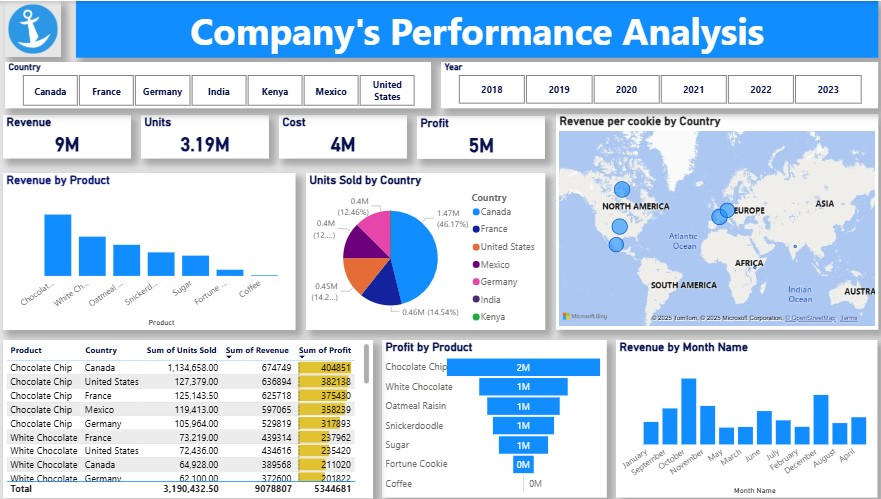

The dashboard page shown, as its layout file describes it:
{"tool":"powerbi","page":{"name":"Dashboard","canvas":[1280,720],"ordinal":0},"visuals":[{"type":"image","box":[10.1,0,80.6,80.6],"z":0},{"type":"textbox","box":[112.8,0,1159.5,82.4],"z":1000},{"type":"card","title":"Revenue","fields":{"Values":["Sum(Sheet1.Revenue)"]},"box":[6.6,164.2,185,63],"z":2000},{"type":"card","title":"Units","fields":{"Values":["Sum(Sheet1.Units Sold)"]},"box":[206.4,164.2,185,63],"z":3000},{"type":"card","title":"Cost","fields":{"Values":["Sum(Sheet1.Cost)"]},"box":[406.1,164.2,185,63],"z":4000},{"type":"card","title":"Profit","fields":{"Values":["Sum(Sheet1.Profit)"]},"box":[605.8,166.3,185.1,62.2],"z":5000},{"type":"columnChart","title":"Revenue by Product","fields":{"Y":["Sum(Sheet1.Revenue)"],"Category":["Sheet1.Product"]},"box":[7.1,248.5,423.3,226.8],"z":6000},{"type":"pieChart","title":"Units Sold by Country","fields":{"Y":["Sum(Sheet1.Units Sold)"],"Category":["Sheet1.Country"]},"box":[445.5,248.7,345.5,227],"z":7000},{"type":"map","title":"Revenue per cookie by Country","fields":{"Category":["Sheet1.Country"],"Size":["Sum(Sheet1.Revenue)"]},"box":[806.1,163.8,465.9,312],"z":8000},{"type":"funnel","title":"Profit by Product","fields":{"Y":["Sum(Sheet1.Profit)"],"Category":["Sheet1.Product"]},"box":[555.4,490.1,325.3,228.4],"z":9000},{"type":"tableEx","fields":{"Values":["Sheet1.Product","Sheet1.Country","Sum(Sheet1.Units Sold)","Sum(Sheet1.Revenue)","Sum(Sheet1.Profit)"]},"box":[7.1,489.9,535.1,228.7],"z":10000},{"type":"columnChart","title":" Revenue by Month Name","fields":{"Category":["Sheet1.Month Name"],"Y":["Sum(Sheet1.Revenue)"]},"box":[894.1,490,378,228],"z":11000},{"type":"slicer","title":"Country","fields":{"Values":["Sheet1.Country"]},"box":[10.3,87.5,616.5,67.2],"z":12000},{"type":"slicer","title":"Year","fields":{"Values":["Sheet1.Year"]},"box":[641,87.7,631.8,66.5],"z":13000}]}

Visuals, with their boxes in screenshot pixels (x1, y1, x2, y2), scaled from the page's 1280x720 canvas onto the 881x499 screenshot:
image: 7 0 62 56
textbox: 78 0 876 57
"Revenue" card: 5 114 132 157
"Units" card: 142 114 269 157
"Cost" card: 280 114 407 157
"Profit" card: 417 115 544 158
"Revenue by Product" columnChart: 5 172 296 329
"Units Sold by Country" pieChart: 307 172 544 330
"Revenue per cookie by Country" map: 555 114 875 330
"Profit by Product" funnel: 382 340 606 498
tableEx - Sheet1.Product x Sheet1.Country: 5 340 373 498
" Revenue by Month Name" columnChart: 615 340 876 498
"Country" slicer: 7 61 431 107
"Year" slicer: 441 61 876 107
